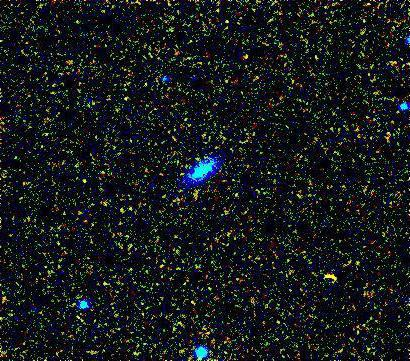star: (315, 259, 345, 289)
